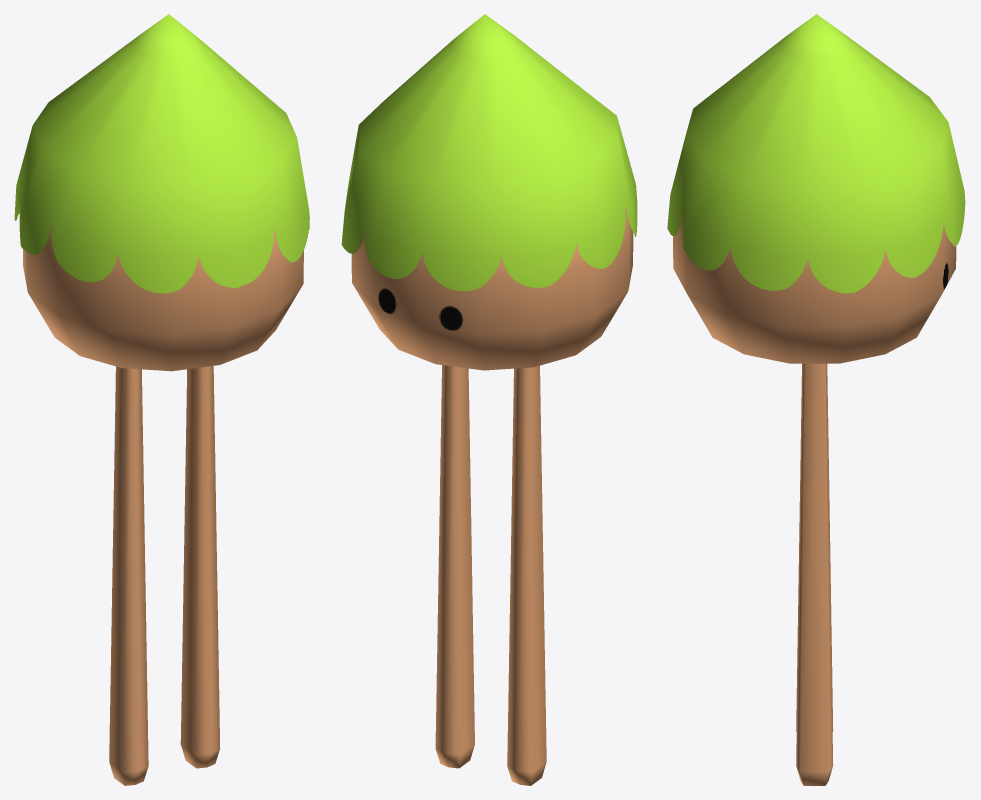
File: EnemyNatureWoodTallIceLow.fbx
The picture shows the model from 3 angles, left to right: view 1: azimuth 30°, elevation 25°; view 2: azimuth 150°, elevation 25°; view 3: azimuth 270°, elevation 25°; orthographic projection.
Parts seen in each view (by area): view 1: EnemyNatureWoodTall18; view 2: EnemyNatureWoodTall18; view 3: EnemyNatureWoodTall18.
Boxes of the visible parts, bbox=[...] form: EnemyNatureWoodTall18: bbox=[14, 14, 309, 785]; EnemyNatureWoodTall18: bbox=[341, 14, 637, 785]; EnemyNatureWoodTall18: bbox=[667, 14, 965, 785].
Size of the model in its own units: 2.11 by 5.96 by 2.15.
